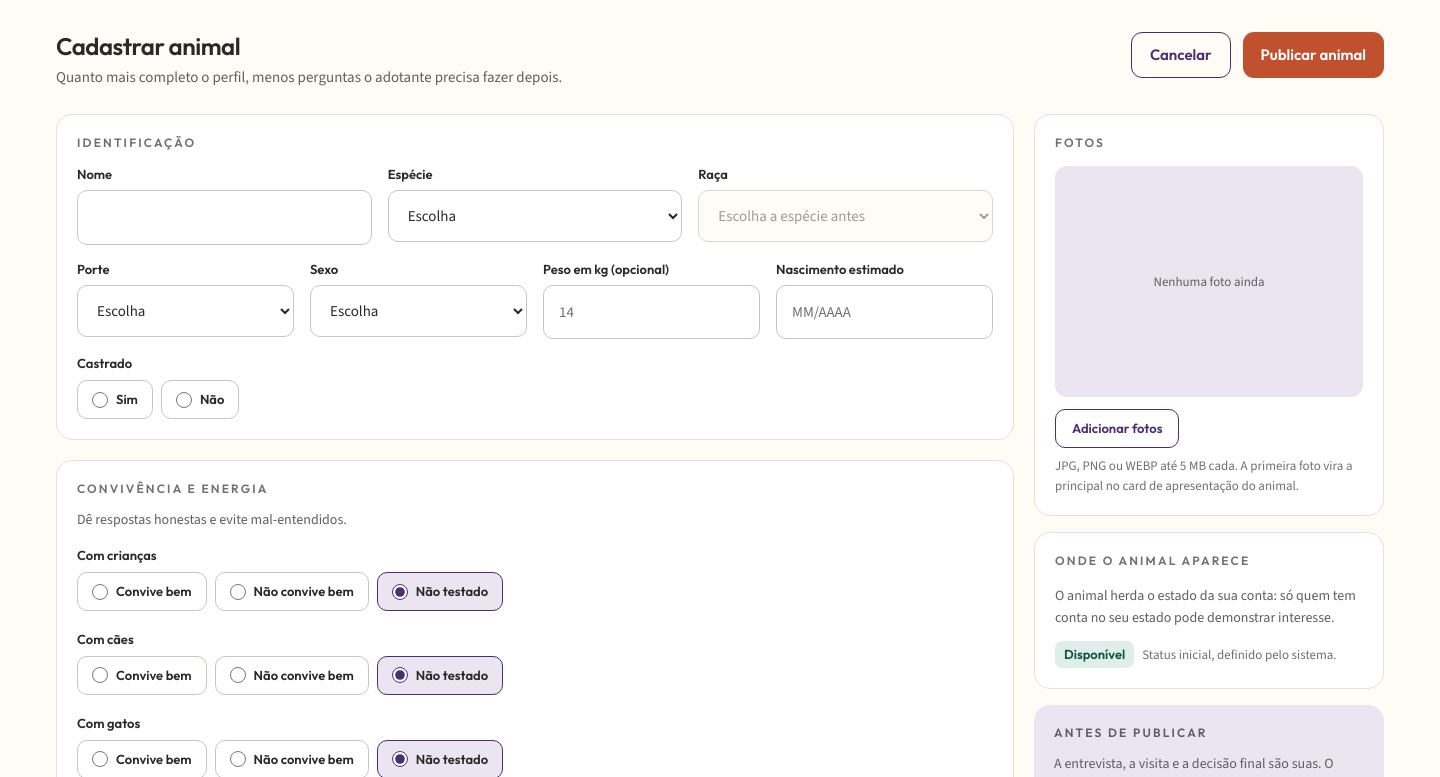
Scenario: em branco, não envia e leva o foco pro primeiro erro
Click the button "Publicar animal" at (1313, 55), box [1243,32,1384,78]
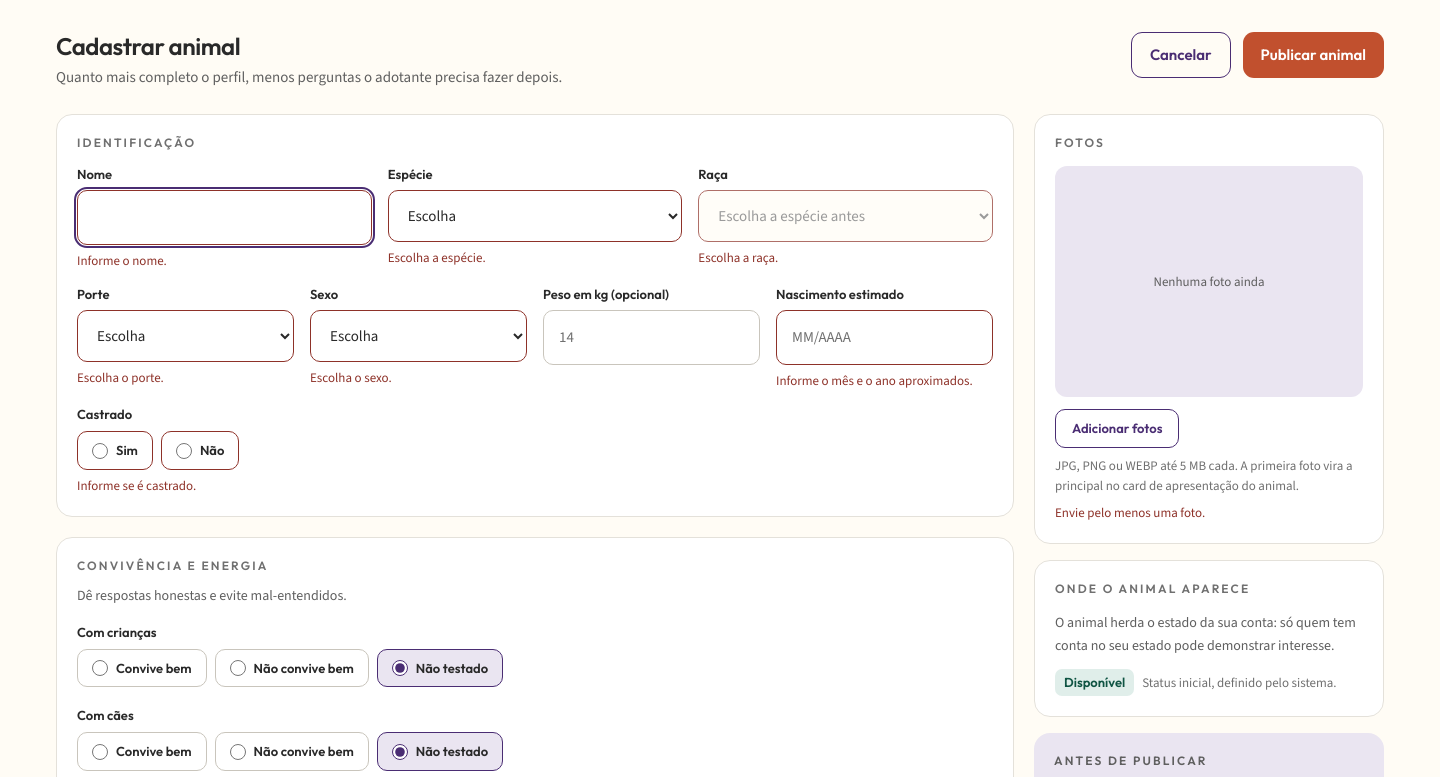
Result: the text "Informe o nome." is shown at [77,252,167,269]
Result: the list item "Envie pelo menos uma foto." is shown at [1055,504,1205,521]
